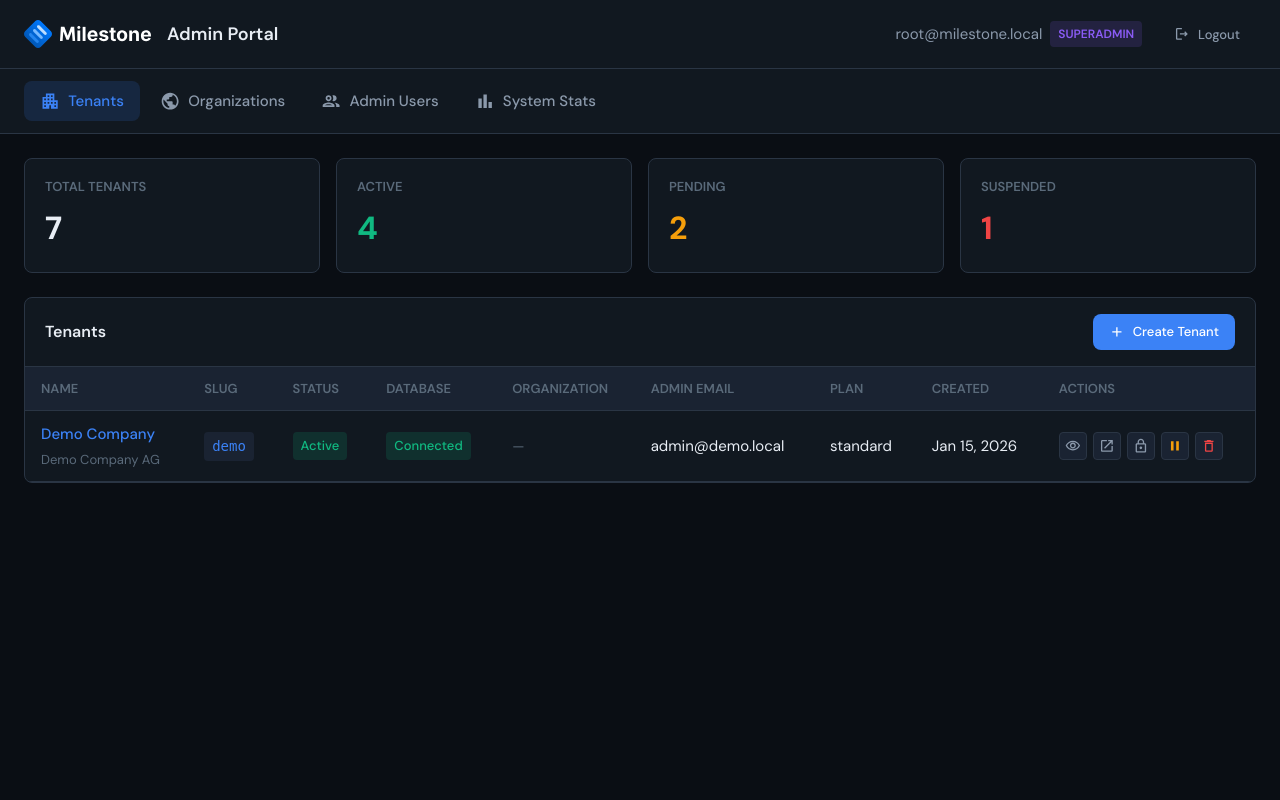
Test: AdminDashboard › creates a tenant and reloads the list
Expected: the button "Demo Company" is shown, left=41, top=424, right=155, bottom=444
Click the button "Create Tenant": [1164, 332] box left=1093, top=314, right=1235, bottom=350
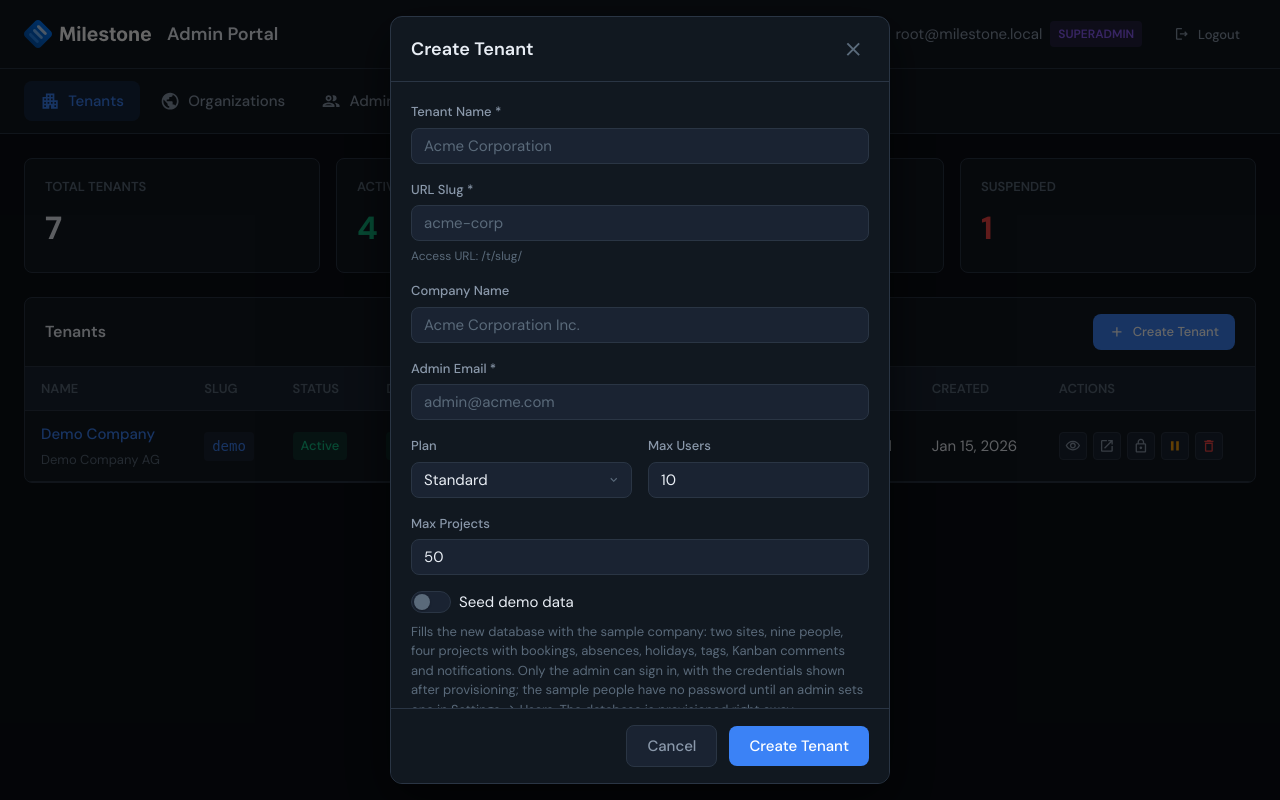
Expected: the heading "Create Tenant" is shown, left=411, top=38, right=534, bottom=60
In the field with placeholder "Acme Corporation": [640, 146] box left=411, top=128, right=869, bottom=164, type "New Co"
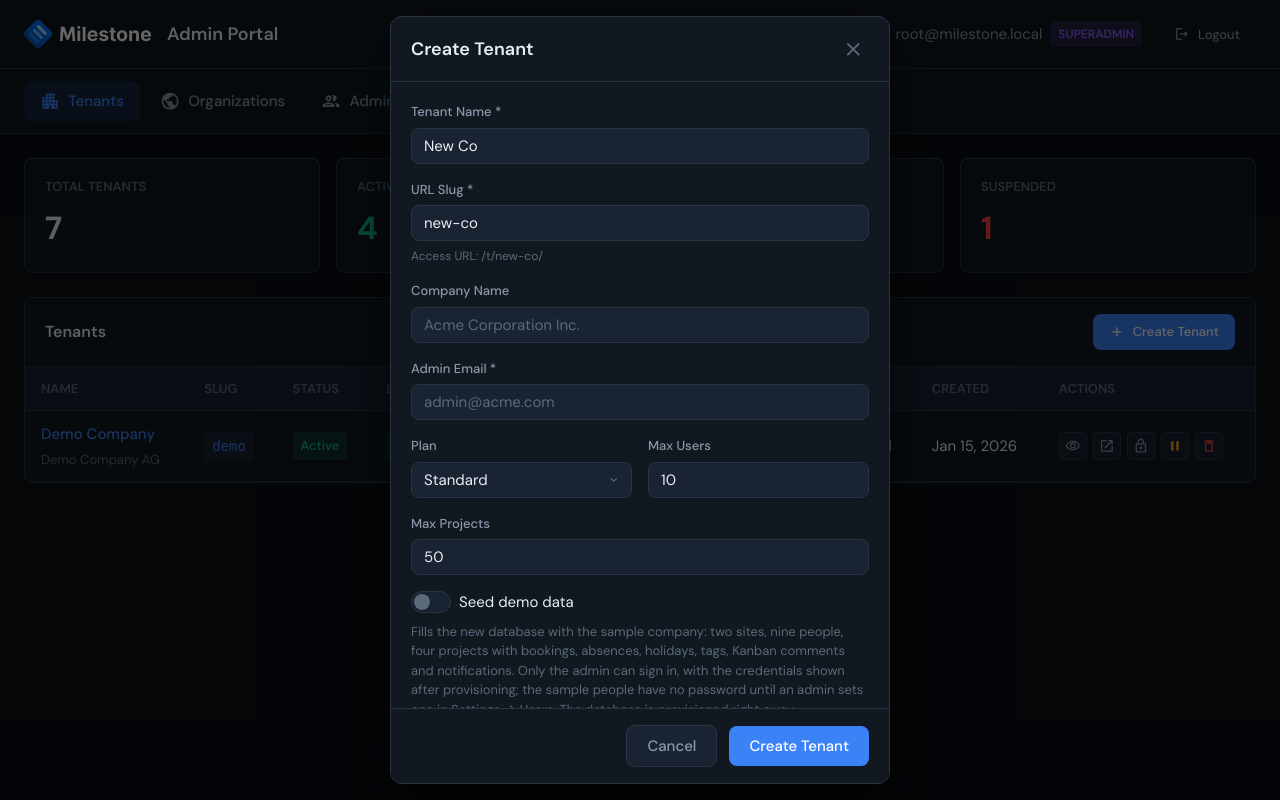
In the field with placeholder "admin@acme.com": [640, 402] box left=411, top=384, right=869, bottom=420, type "a@new.co"
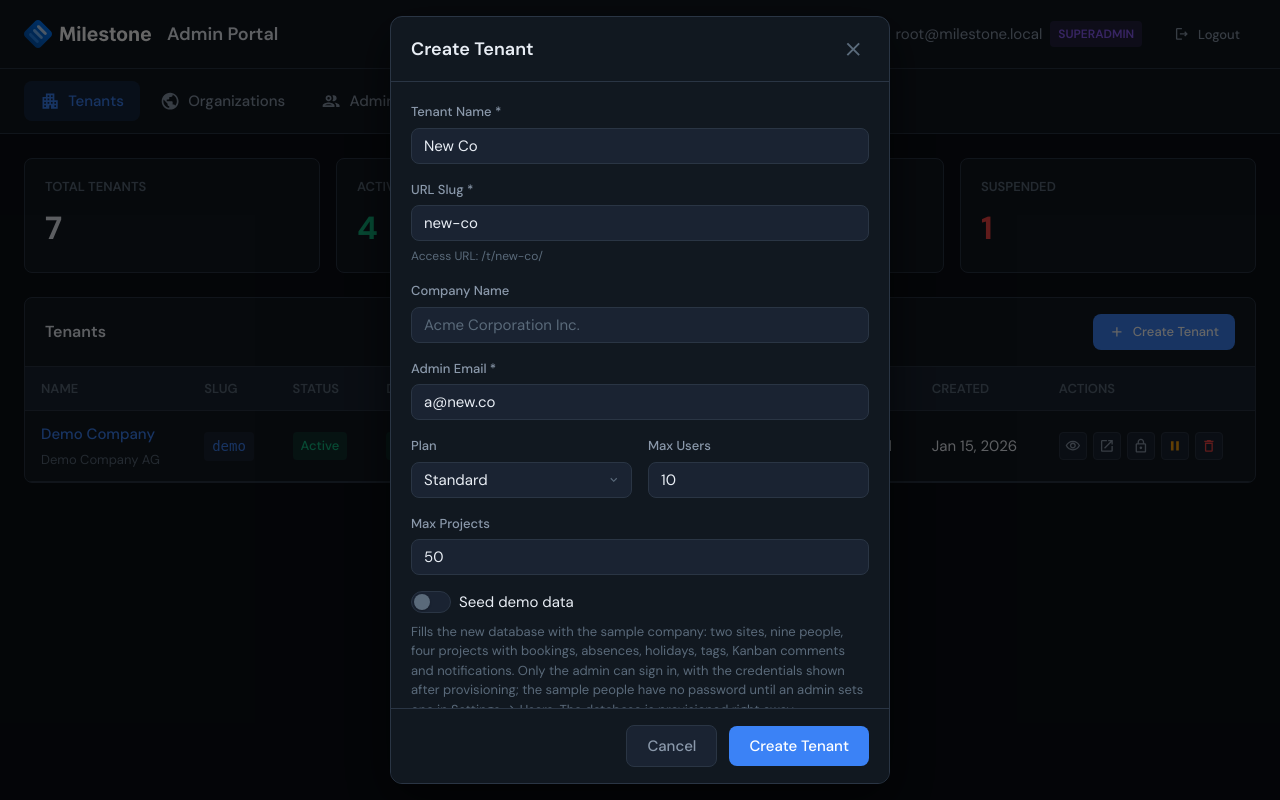
Submit the form with id "create-tenant-form", box left=391, top=82, right=889, bottom=708
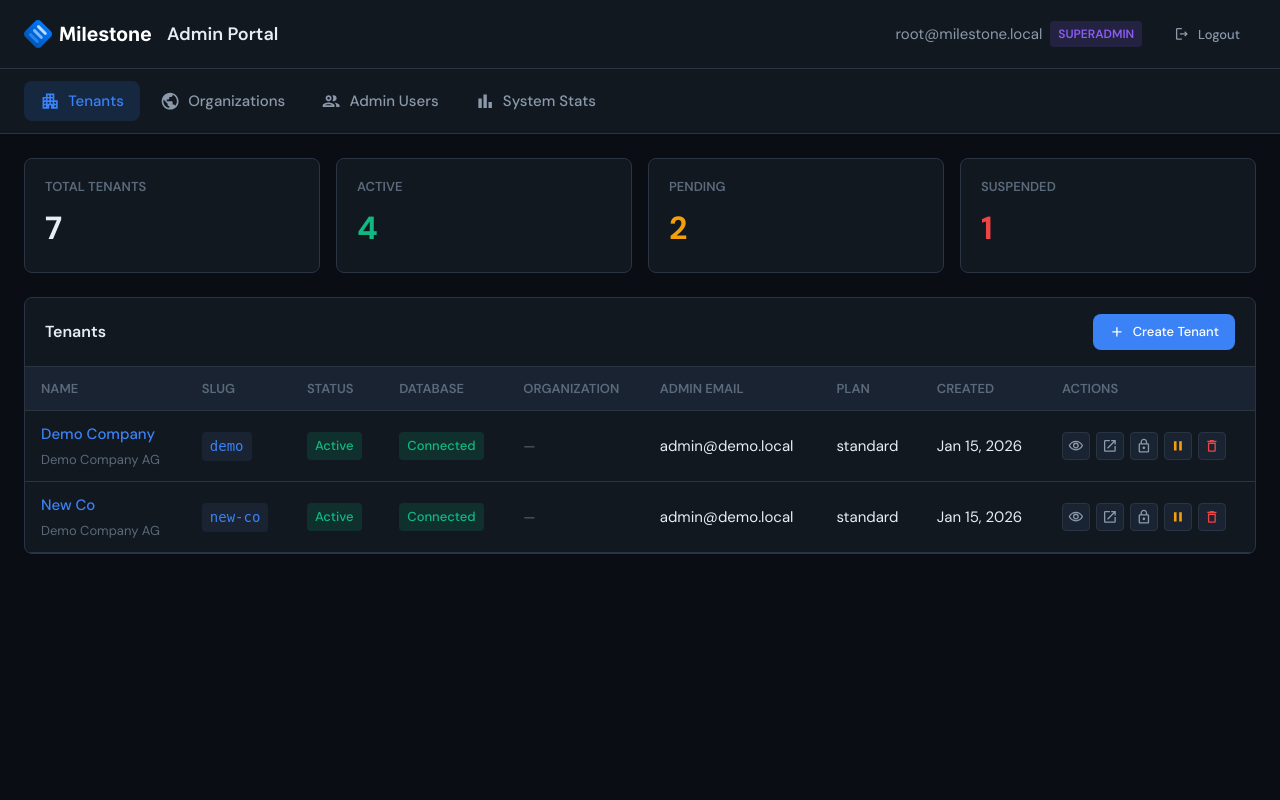
Expected: the button "New Co" is shown, left=41, top=495, right=95, bottom=515
